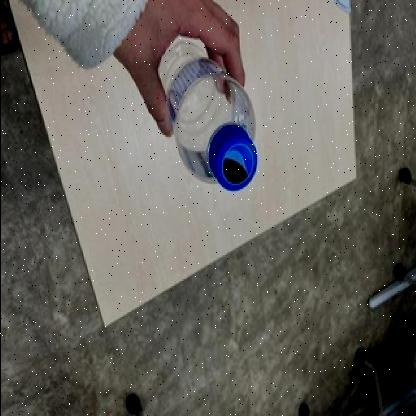Plastic Bottle: (157, 34, 259, 192)
